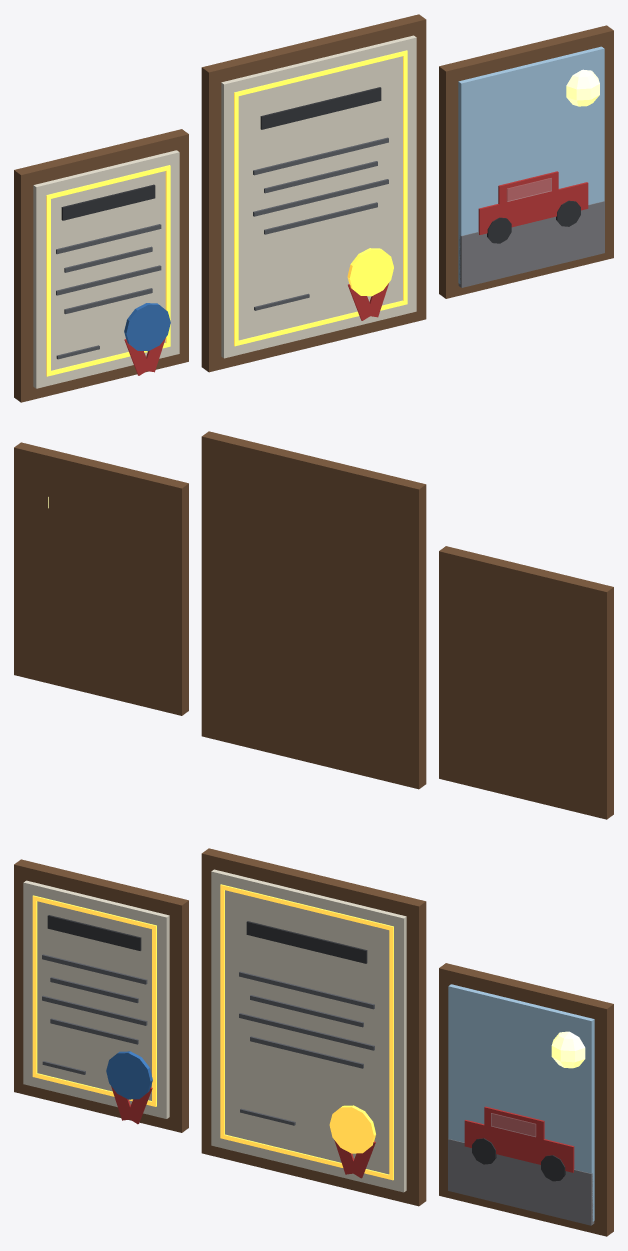
Rendered from certificates.glb.
3 views of the same model, one above another, from view 1: azimuth 30°, elevation 25°; view 2: azimuth 150°, elevation 25°; view 3: azimuth 330°, elevation 25° (orthographic).
Parts seen in each view (by area): view 1: certificates; view 2: certificates; view 3: certificates.
Boxes of the visible parts, box(x1,y1,x2,y2) form: certificates: box(14, 14, 613, 402); certificates: box(14, 431, 613, 819); certificates: box(14, 848, 613, 1236).
Bounding box in the file's own units: 1.2 × 0.58 × 0.0666.
